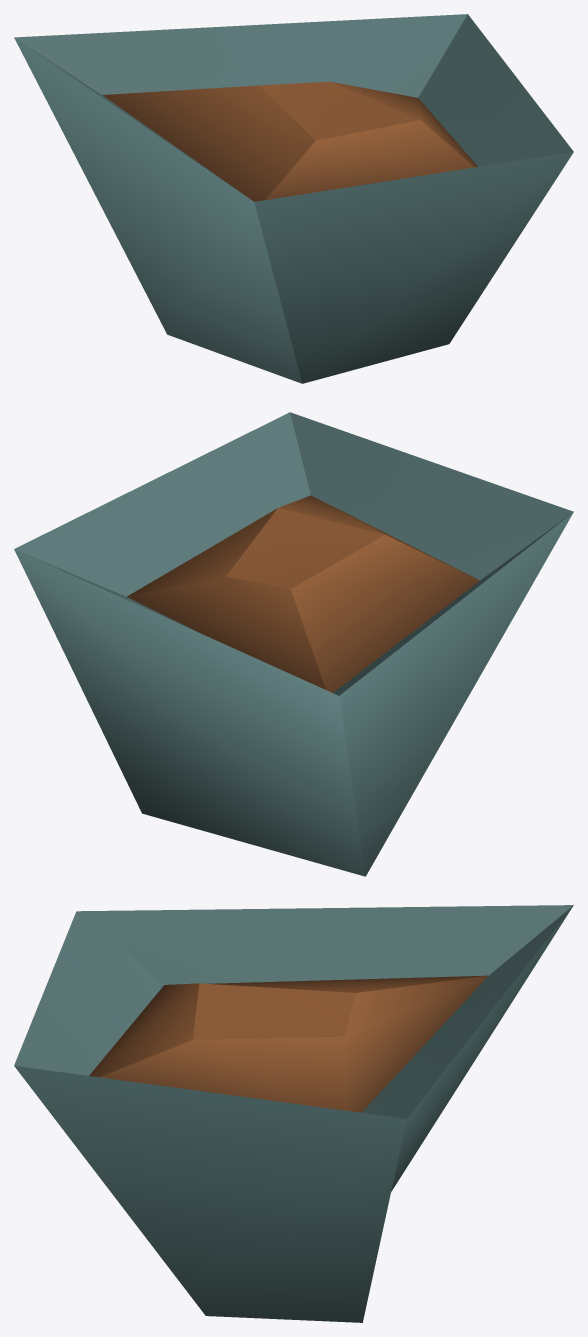
The model's file is c_deco_vase_square_ab.fbx.
The picture shows the model from 3 angles, top to bottom: view 1: azimuth 30°, elevation 25°; view 2: azimuth 150°, elevation 25°; view 3: azimuth 270°, elevation 25°; orthographic projection. The views are drawn at different scales.
Parts seen in each view (by area): view 1: c_deco_vase_square_ab; view 2: c_deco_vase_square_ab; view 3: c_deco_vase_square_ab.
Boxes of the visible parts, bbox=[...] form: c_deco_vase_square_ab: bbox=[14, 14, 573, 383]; c_deco_vase_square_ab: bbox=[14, 412, 573, 876]; c_deco_vase_square_ab: bbox=[14, 905, 573, 1322].
Bounding box in the file's own units: 0.56 × 0.3516 × 0.6618.
